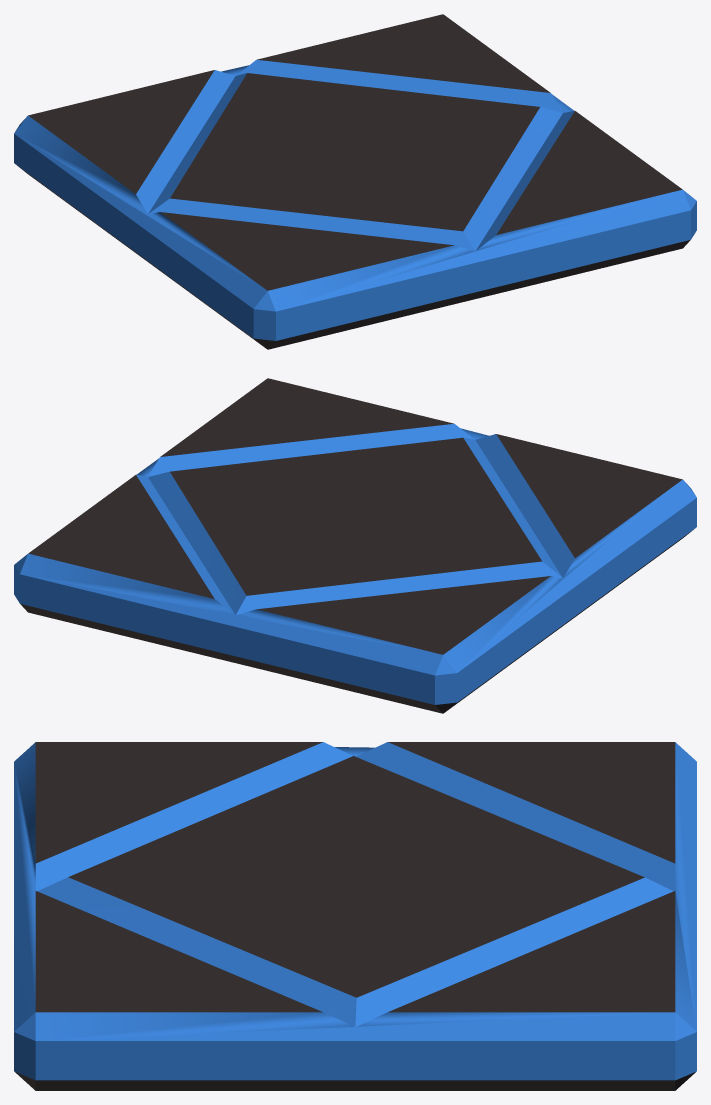
The model's file is SpawnPoint_Blue.fbx.
3 views of the same model, one above another, from view 1: azimuth 30°, elevation 25°; view 2: azimuth 150°, elevation 25°; view 3: azimuth 270°, elevation 25° (orthographic). The views are drawn at different scales.
Parts seen in each view (by area): view 1: pCube4; view 2: pCube4; view 3: pCube4.
Part boxes in pixels (x1,y1,x2,y2): pCube4: (14,14,696,349); pCube4: (14,378,696,713); pCube4: (14,742,696,1090).
Size of the model in its own units: 3.67 by 0.4662 by 3.67.
